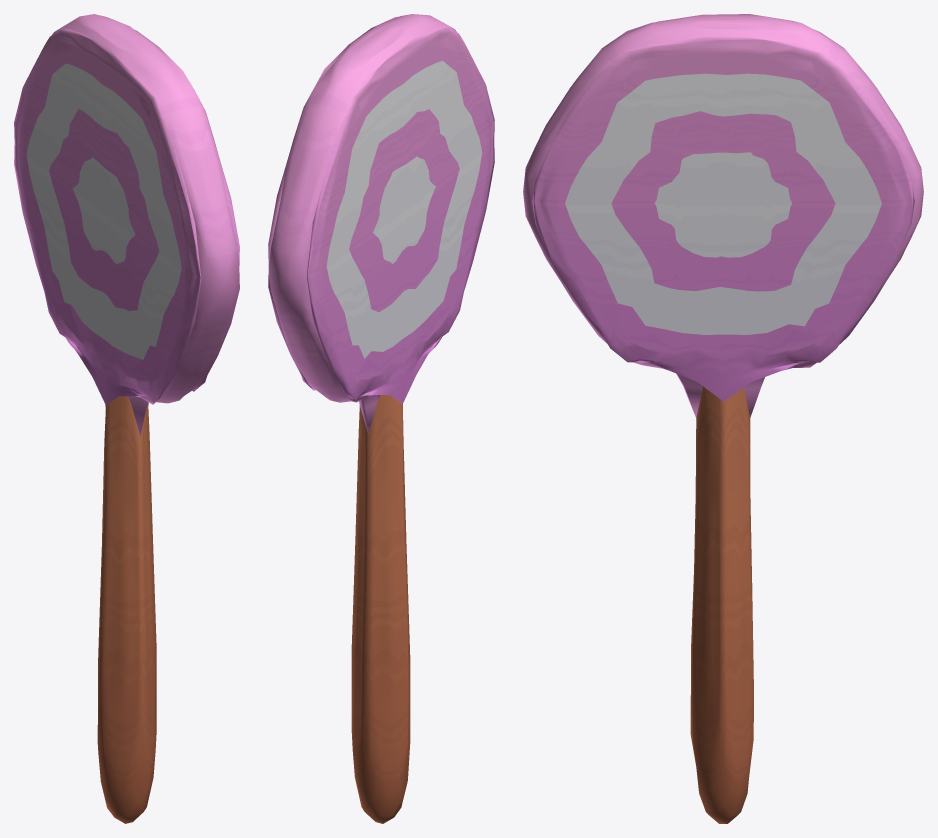
3 views of the same model, side by side, from view 1: azimuth 30°, elevation 25°; view 2: azimuth 150°, elevation 25°; view 3: azimuth 270°, elevation 25° (orthographic). The views are drawn at different scales.
Bounding box in the file's own units: 0.0745 × 1 × 0.4532.
Materials: 1 (1 with a texture image).
